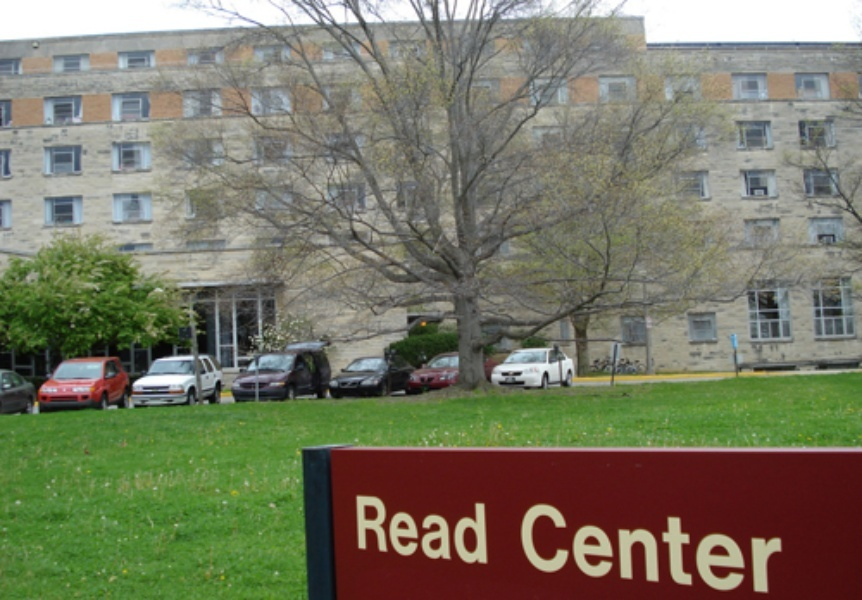text: (529, 502, 544, 595), (545, 502, 560, 595), (561, 502, 576, 595), (577, 502, 592, 595), (593, 502, 608, 595), (609, 502, 624, 595), (625, 502, 640, 595), (641, 502, 656, 595), (657, 502, 672, 595), (673, 502, 688, 595), (689, 502, 704, 595), (705, 502, 720, 595), (721, 502, 736, 595), (737, 502, 752, 595), (753, 502, 768, 595), (769, 502, 784, 595), (369, 492, 384, 566), (385, 492, 400, 566), (401, 492, 416, 566), (417, 492, 432, 566), (433, 492, 448, 566), (449, 492, 464, 566), (465, 492, 480, 566), (354, 492, 368, 566), (519, 502, 528, 595), (481, 492, 488, 566), (785, 502, 787, 595)
